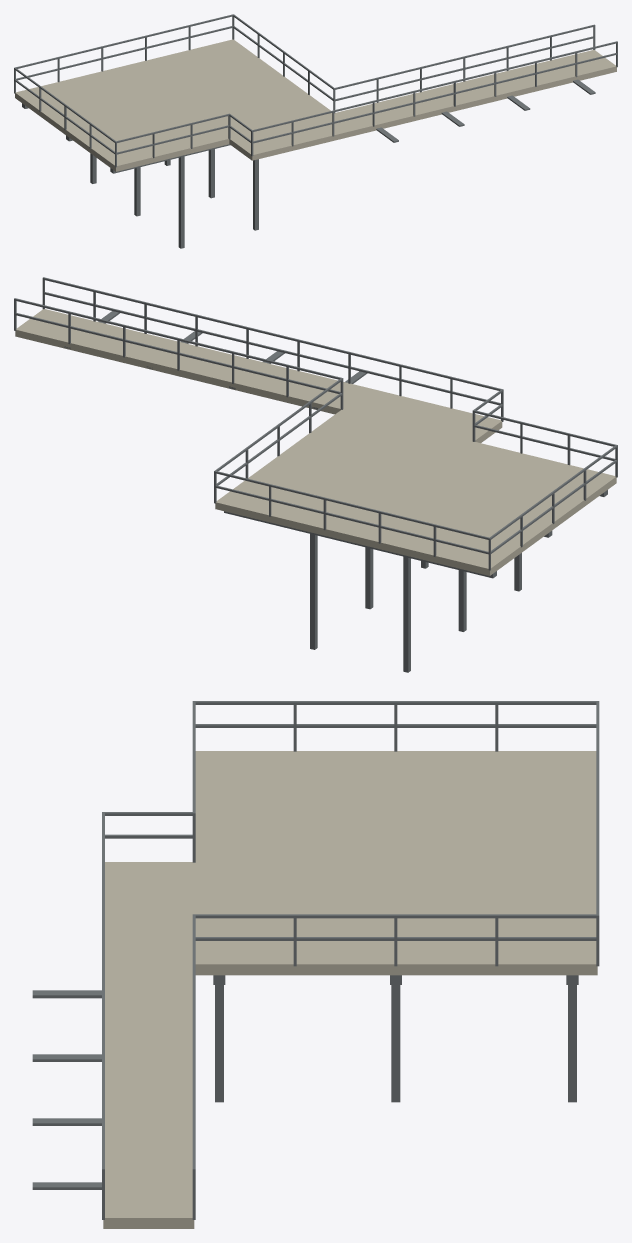
File: PORTCENTRAL_RECEIVING_FRAME_r004.glb
The picture shows the model from 3 angles, top to bottom: view 1: azimuth 30°, elevation 25°; view 2: azimuth 150°, elevation 25°; view 3: azimuth 270°, elevation 25°; orthographic projection. The views are drawn at different scales.
Parts seen in each view (by area): view 1: Exact_source_adjunct_floor, North_external_approach, Guard_rail_3_1, Guard_rail_3_0, Guard_rail_2_1, Guard_rail_2_0, Stub_column_-85.7_-16.5, Guard_rail_0_1, Guard_rail_0_0, Stub_column_-82.3_-16.5, Stub_column_-85.7_-20.0, Stub_column_-82.3_-20.0 (+2 smaller); view 2: Exact_source_adjunct_floor, North_external_approach, Guard_rail_3_1, Guard_rail_3_0, Guard_rail_2_1, Guard_rail_2_0, Stub_column_-85.7_-23.5, Stub_column_-82.3_-23.5, Guard_rail_0_1, Guard_rail_0_0, Source_floor_crossmember_-23.5, Stub_column_-85.7_-20.0 (+1 smaller); view 3: Exact_source_adjunct_floor, North_external_approach, Guard_rail_1_1, Guard_rail_6_1, Guard_rail_6_0, Guard_rail_1_0, Stub_column_-82.3_-20.0, Guard_rail_3_1, Stub_column_-82.3_-23.5, Stub_column_-82.3_-16.5, Guard_rail_2_1, Guard_rail_0_1.
Boxes of the visible parts, <box> form: Exact_source_adjunct_floor: <box>15,39,332,171</box>; North_external_approach: <box>229,50,616,160</box>; Guard_rail_3_1: <box>251,41,616,132</box>; Guard_rail_3_0: <box>251,53,617,143</box>; Guard_rail_2_1: <box>333,24,595,89</box>; Guard_rail_2_0: <box>333,36,594,101</box>; Stub_column_-85.7_-16.5: <box>178,156,184,248</box>; Guard_rail_0_1: <box>14,14,233,68</box>; Guard_rail_0_0: <box>14,26,233,80</box>; Stub_column_-82.3_-16.5: <box>253,159,258,230</box>; Stub_column_-85.7_-20.0: <box>134,167,140,216</box>; Stub_column_-82.3_-20.0: <box>208,149,214,198</box>; Exact_source_adjunct_floor: <box>215,409,616,575</box>; North_external_approach: <box>15,309,502,442</box>; Guard_rail_3_1: <box>42,277,503,390</box>; Guard_rail_3_0: <box>42,292,503,405</box>; Guard_rail_2_1: <box>14,298,341,379</box>; Guard_rail_2_0: <box>14,313,340,393</box>; Stub_column_-85.7_-23.5: <box>403,556,410,672</box>; Stub_column_-82.3_-23.5: <box>310,534,317,649</box>; Guard_rail_0_1: <box>214,471,490,539</box>; Guard_rail_0_0: <box>214,485,490,554</box>; Source_floor_crossmember_-23.5: <box>224,511,496,578</box>; Stub_column_-85.7_-20.0: <box>458,570,466,631</box>; Exact_source_adjunct_floor: <box>194,751,597,975</box>; North_external_approach: <box>103,862,194,1228</box>; Guard_rail_1_1: <box>192,914,599,918</box>; Guard_rail_6_1: <box>195,701,598,704</box>; Guard_rail_6_0: <box>195,724,596,727</box>; Guard_rail_1_0: <box>195,937,598,940</box>; Stub_column_-82.3_-20.0: <box>391,985,400,1102</box>; Guard_rail_3_1: <box>102,812,104,1171</box>; Stub_column_-82.3_-23.5: <box>568,985,576,1102</box>; Stub_column_-82.3_-16.5: <box>215,985,223,1102</box>; Guard_rail_2_1: <box>192,915,195,1171</box>; Guard_rail_0_1: <box>596,701,599,918</box>.
Size of the model in its own units: 21.96 by 5.6 by 11.23.
